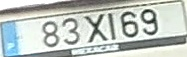3: (61, 16, 81, 45)
6: (118, 9, 139, 39)
8: (40, 19, 60, 48)
9: (138, 7, 159, 37)
I: (106, 11, 117, 41)
X: (82, 12, 109, 44)
